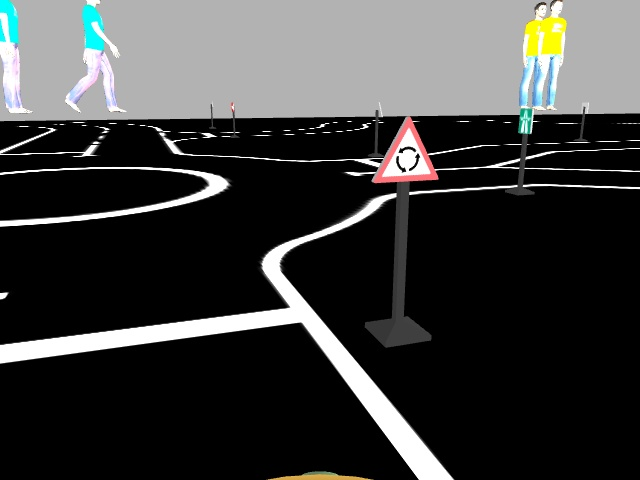HighwayEntrance: (516, 103, 535, 134)
Roundabout: (370, 114, 441, 185)
